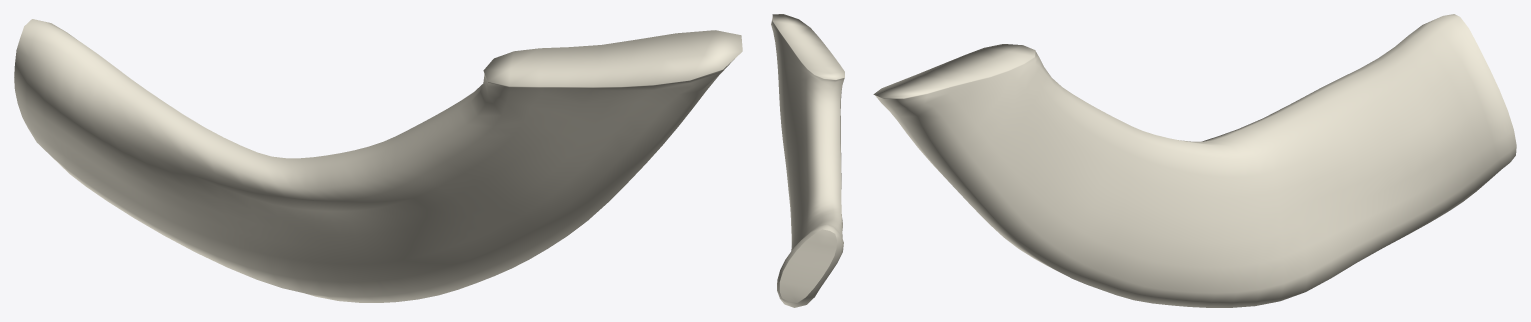
The picture shows the model from 3 angles, left to right: view 1: azimuth 30°, elevation 25°; view 2: azimuth 150°, elevation 25°; view 3: azimuth 270°, elevation 25°; orthographic projection. The views are drawn at different scales.
Visible parts, largest first — view 1: ZA_b318306600656fc1; view 2: ZA_b318306600656fc1; view 3: ZA_b318306600656fc1.
Boxes of the visible parts, x1,y1,x2,y2 form: ZA_b318306600656fc1: [14, 19, 742, 302]; ZA_b318306600656fc1: [771, 14, 844, 307]; ZA_b318306600656fc1: [873, 14, 1516, 307].
Bounding box in the file's own units: 0.0471 × 0.0359 × 0.0674.
